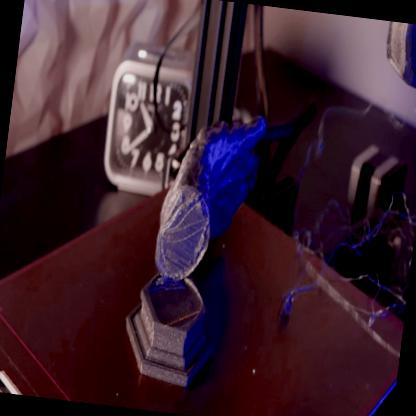fail: (283, 180, 416, 325)
